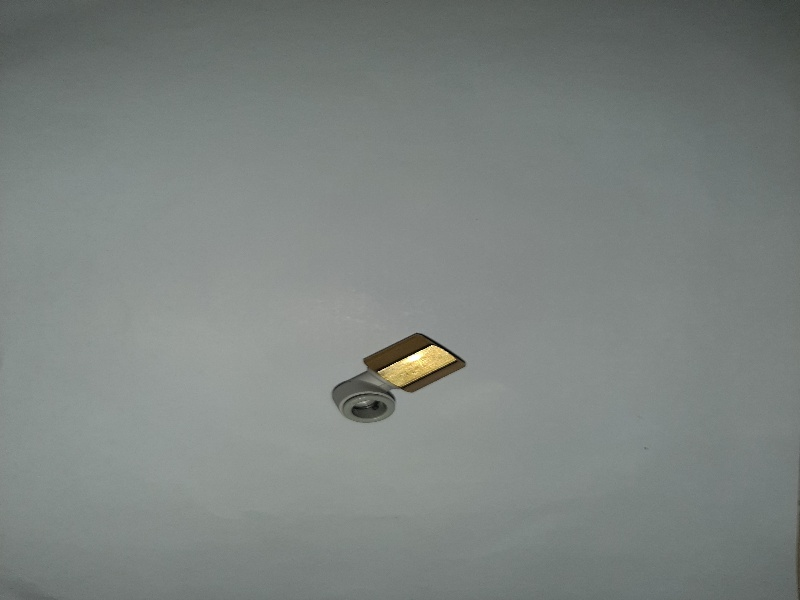Connector: (328, 325, 473, 429)
